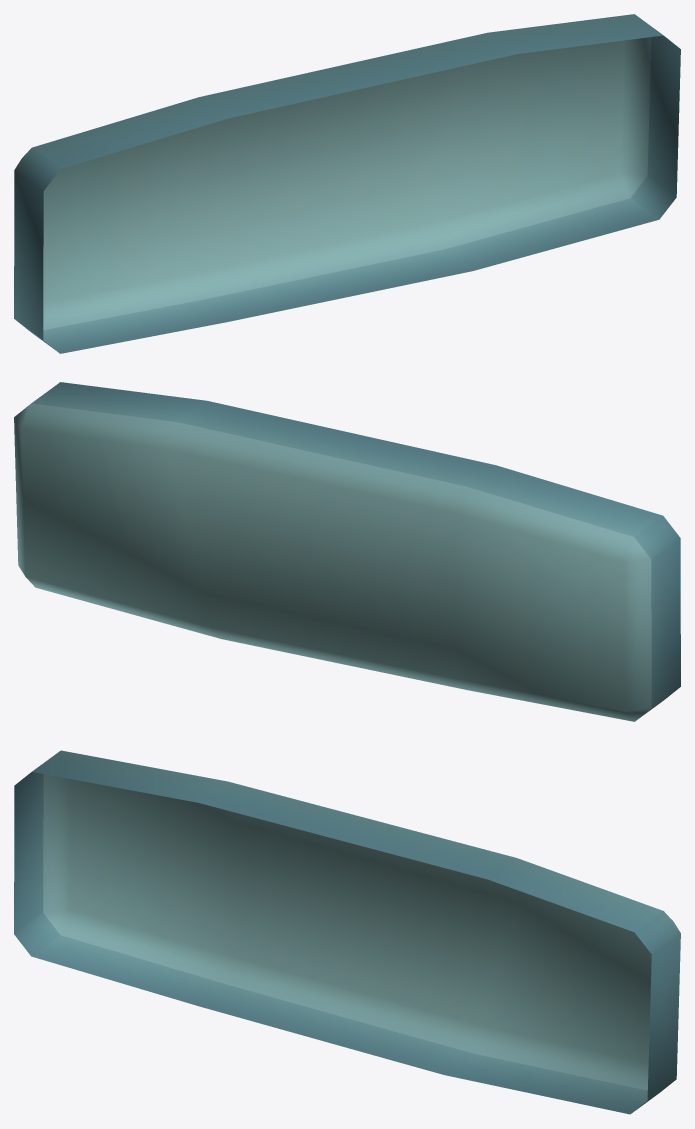
The model's file is Step 01.FBX.
3 renders of one model, top to bottom at view 1: azimuth 30°, elevation 25°; view 2: azimuth 150°, elevation 25°; view 3: azimuth 330°, elevation 25°, orthographic.
Parts seen in each view (by area): view 1: Step 01; view 2: Step 01; view 3: Step 01.
Part boxes in pixels (bbox=[...]): Step 01: bbox=[14, 14, 680, 353]; Step 01: bbox=[14, 382, 680, 721]; Step 01: bbox=[14, 750, 680, 1114].
Size of the model in its own units: 335 by 36.35 by 106.
1 material, 1 textured.
